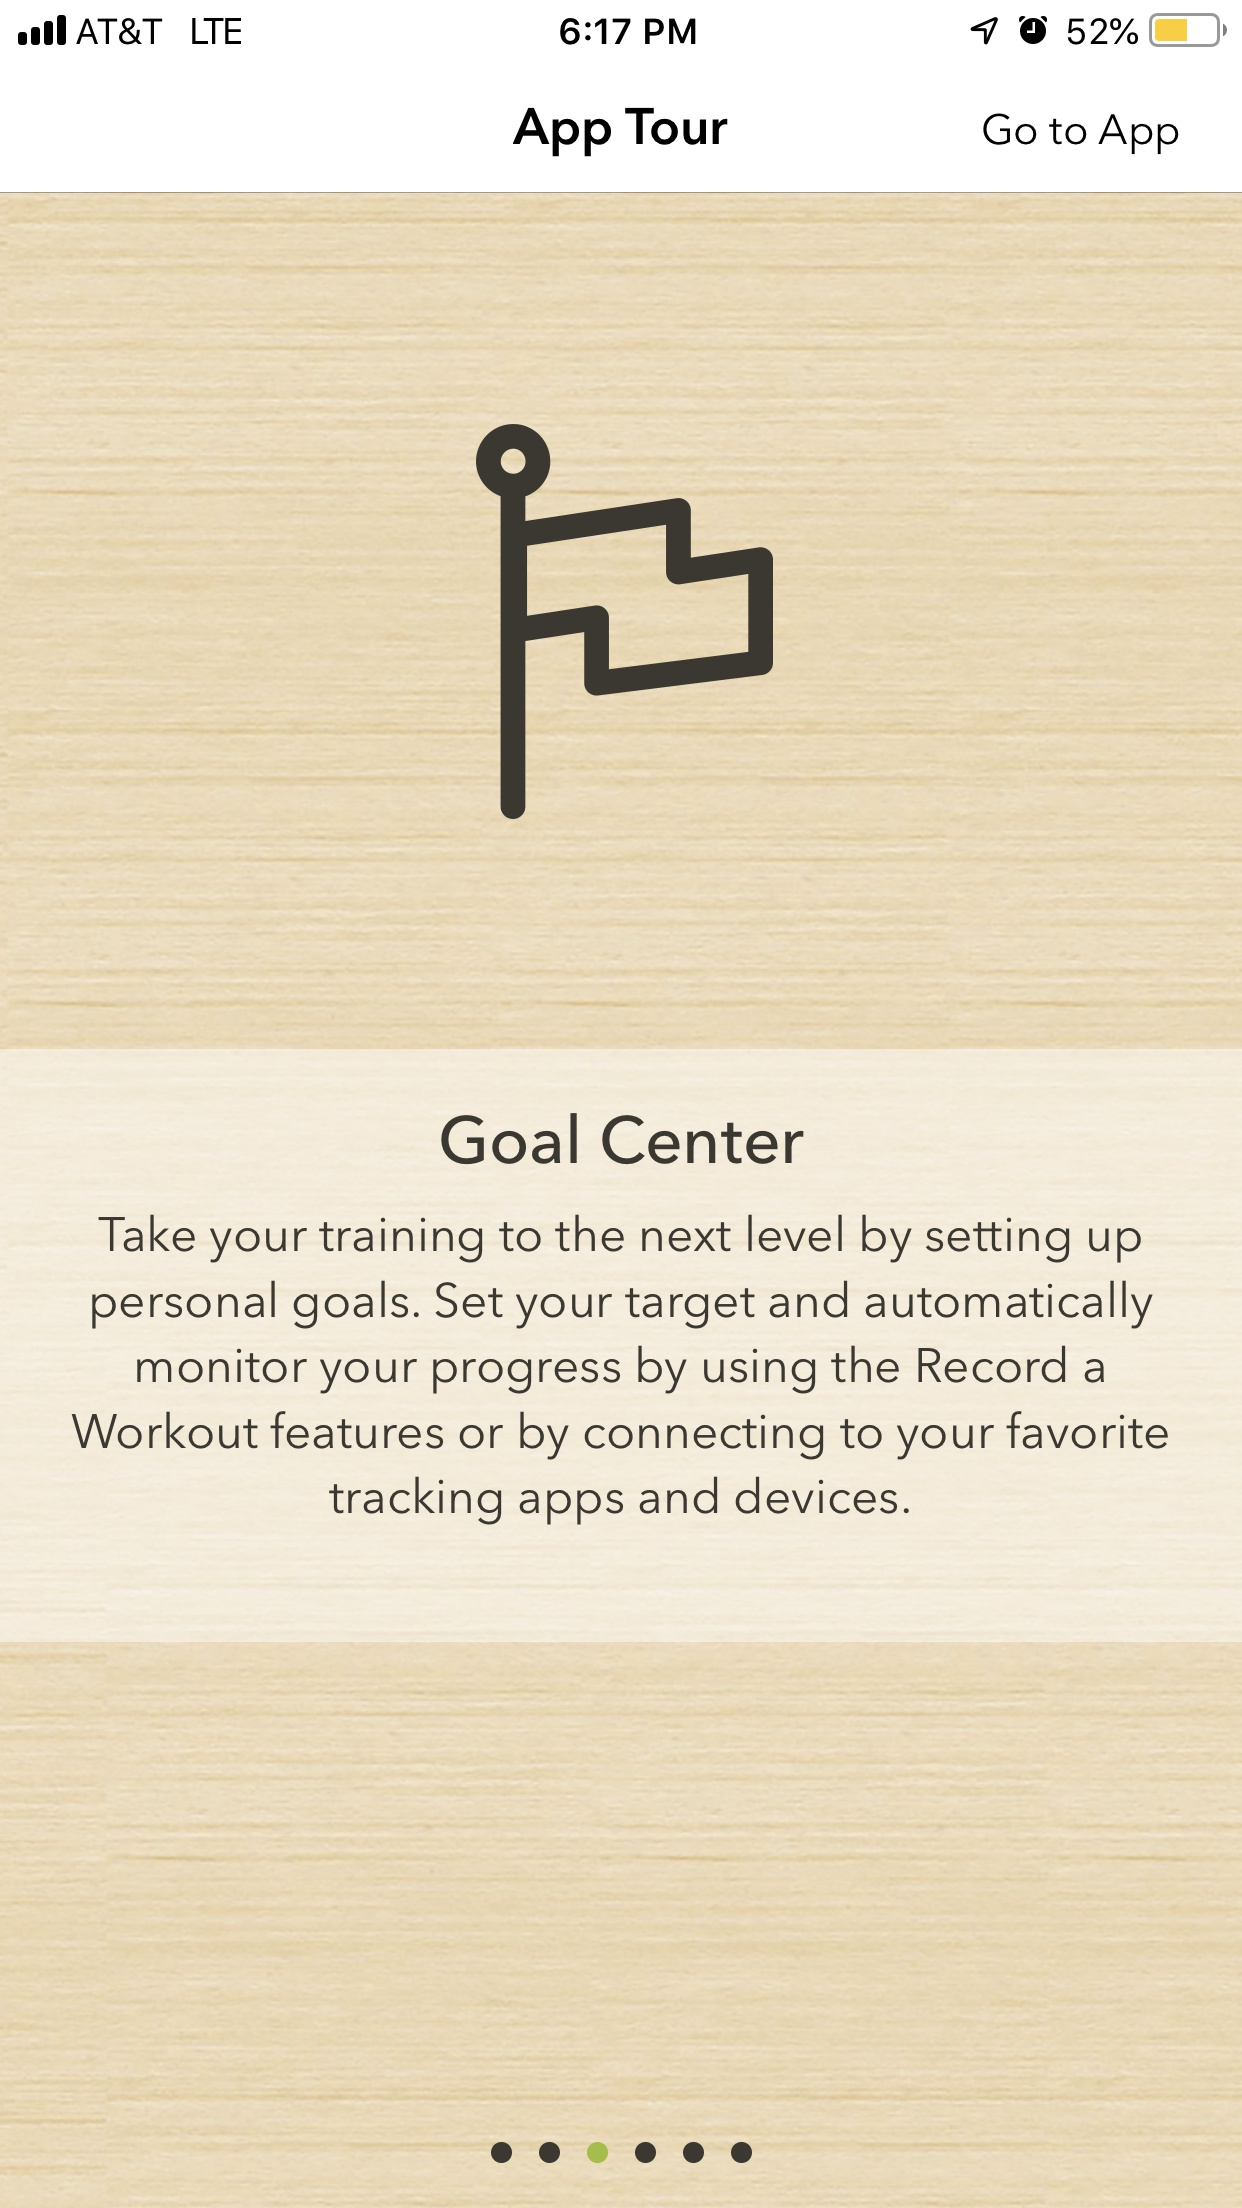Image: (472, 420, 770, 816)
PageIndicator: (482, 2134, 760, 2169)
Text: (65, 1212, 1172, 1524), (438, 1110, 804, 1166), (513, 102, 728, 158), (980, 109, 1178, 158)
UpperTaskBar: (2, 2, 1242, 49)
